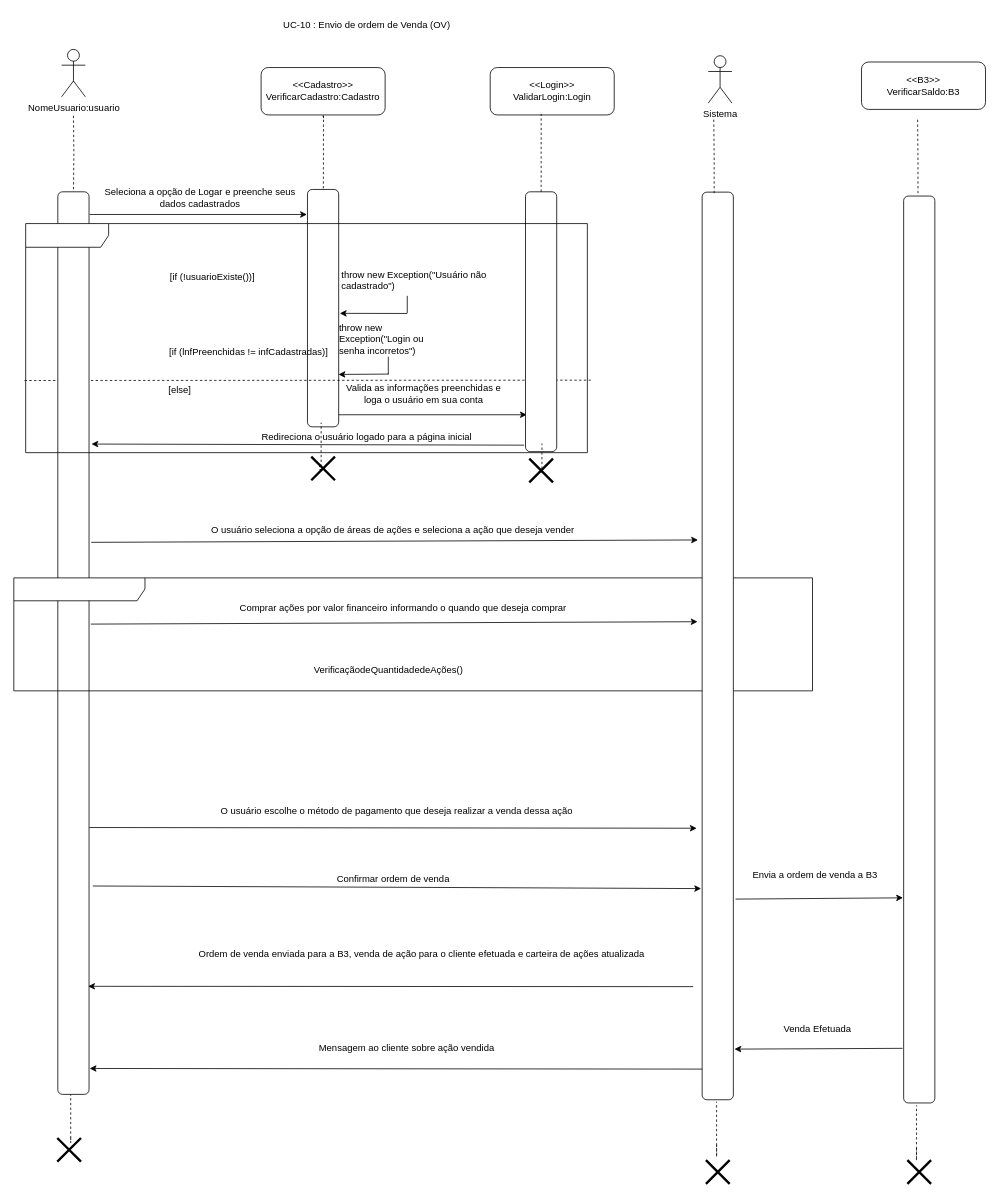
The diagram is 999 pixels wide and 1198 high, and some of its shapes have lost their labels. Each missing label, with the box of its shape:
Venda de ações por valor financeiro: (13, 577, 813, 691)
Verificar Cadastro: (25, 223, 587, 453)
